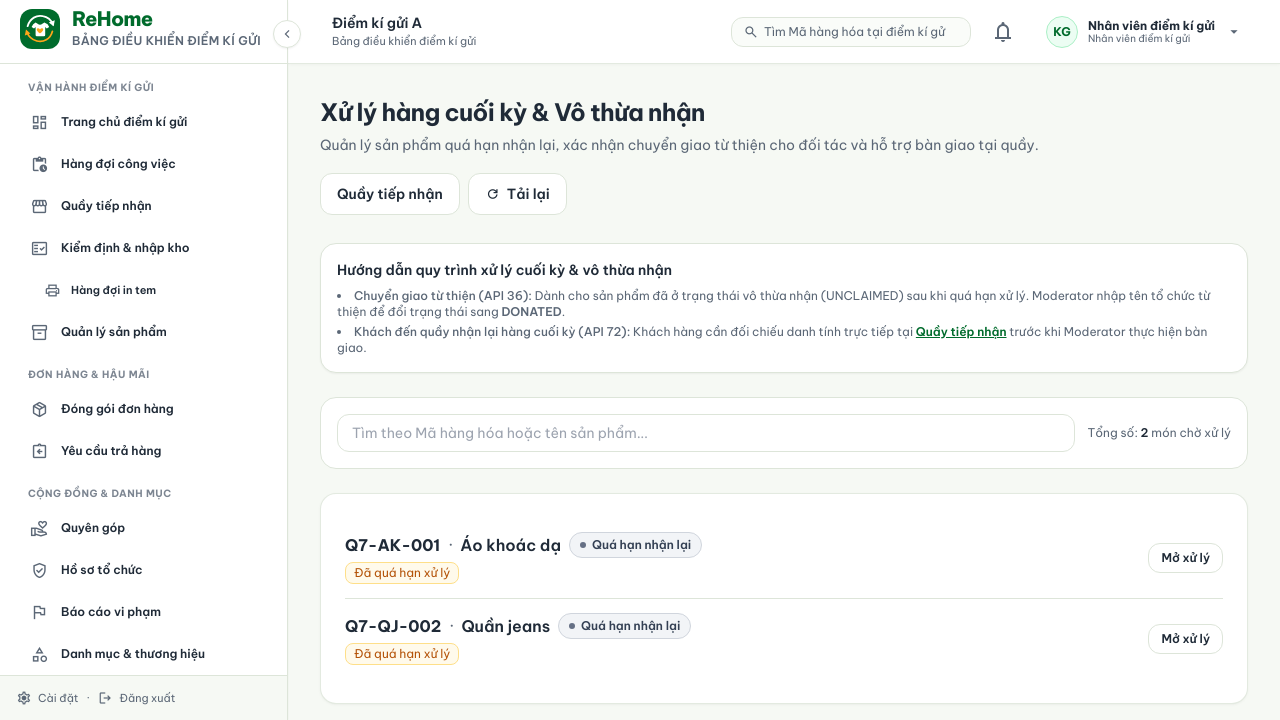
Test: Phase 2 No-Shelf Regression › EndOfTermPage renders without shelf placeholders or columns and searches by SKU/name
Expected: the text "Q7-AK-001" is shown, [345,533,440,557]
Type "Q7-QJ-002" into the search field with placeholder "Tìm theo Mã hàng hóa hoặc tên sản phẩm..." at (706,433), box [337,414,1076,452]
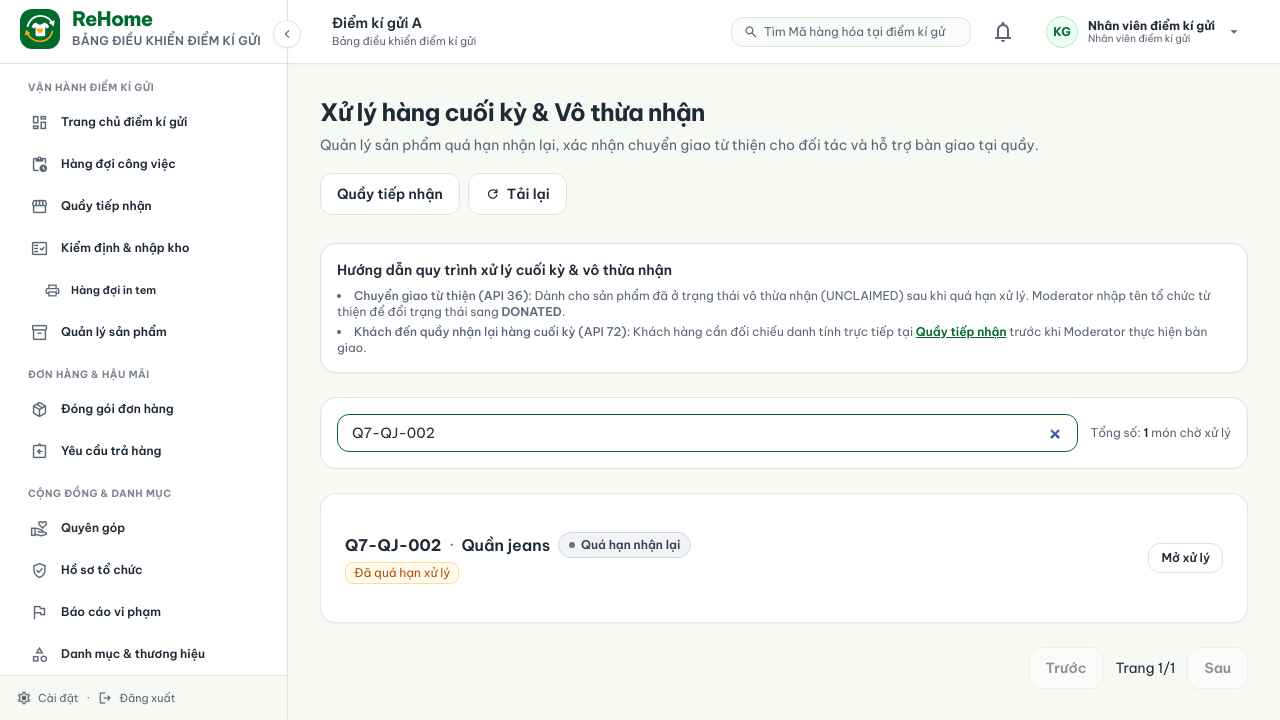
Expected: the text "Q7-QJ-002" is shown, [345,533,441,557]
Expected: the text "Q7-AK-001" is gone
